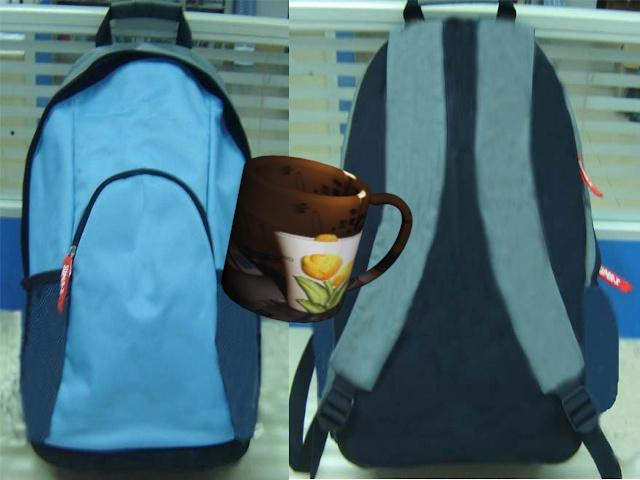mug: (217, 145, 417, 328)
